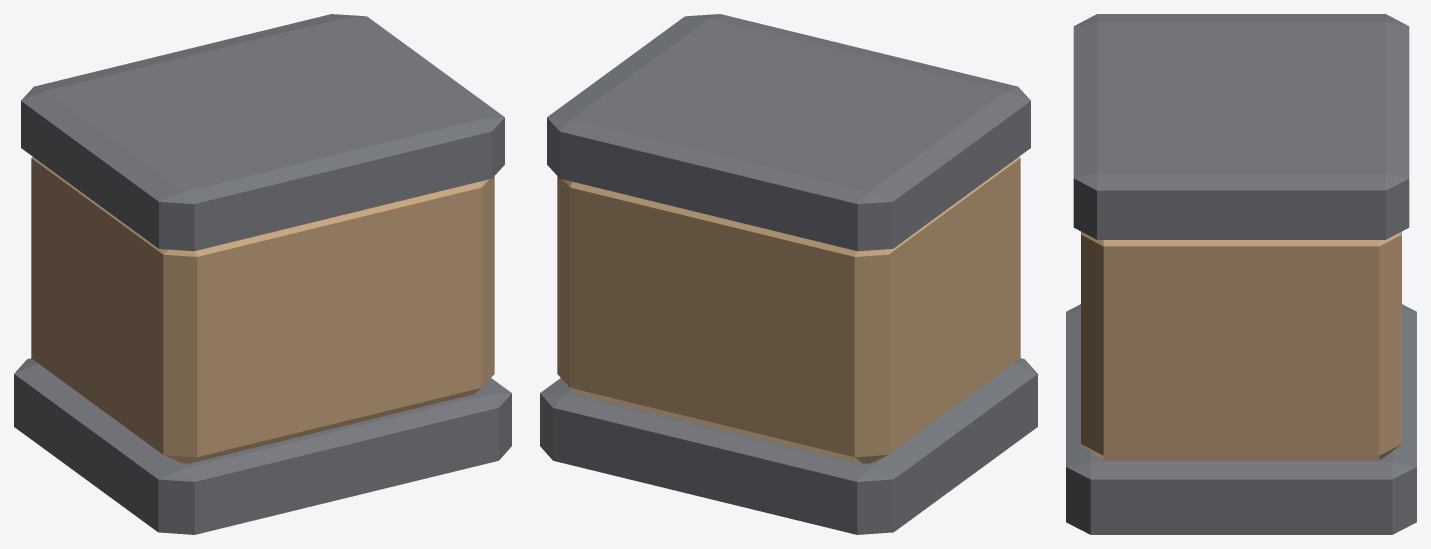
File: b14_floor_pallet_weighing_scale.glb
3 views of the same model, side by side, from view 1: azimuth 30°, elevation 25°; view 2: azimuth 150°, elevation 25°; view 3: azimuth 270°, elevation 25° (orthographic). The views are drawn at different scales.
Visible parts, largest first — view 1: b14_floor_pallet_weighing_scale; view 2: b14_floor_pallet_weighing_scale; view 3: b14_floor_pallet_weighing_scale.
Boxes of the visible parts, x1,y1,x2,y2 form: b14_floor_pallet_weighing_scale: (14,14,511,534); b14_floor_pallet_weighing_scale: (540,14,1037,534); b14_floor_pallet_weighing_scale: (1066,14,1416,534).
Size of the model in its own units: 1.51 by 1.37 by 1.24.
